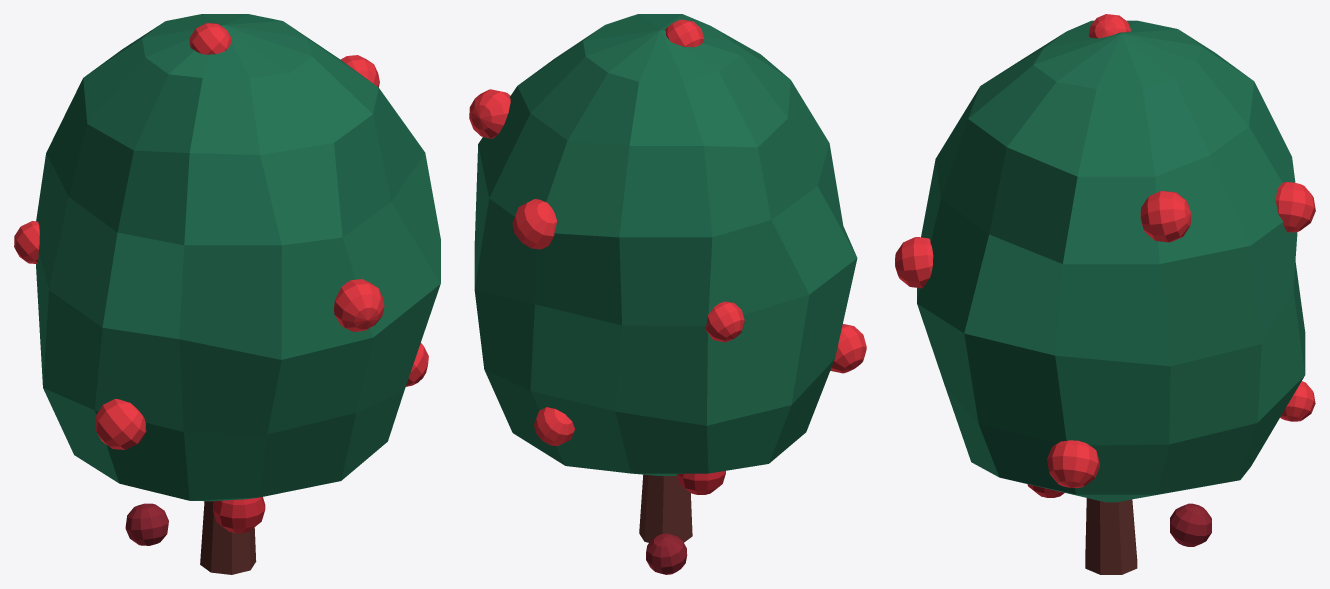
3 renders of one model, left to right at view 1: azimuth 30°, elevation 25°; view 2: azimuth 150°, elevation 25°; view 3: azimuth 270°, elevation 25°, orthographic. The views are drawn at different scales.
Visible parts, largest first — view 1: sphere (×8), cone; view 2: sphere (×9), cone; view 3: sphere (×8), cone.
Part boxes in pixels (<box>): sphere (×8): <box>14,14,440,545</box>; cone: <box>200,501,256,574</box>; sphere (×9): <box>469,14,866,574</box>; cone: <box>639,474,692,542</box>; sphere (×8): <box>895,14,1315,546</box>; cone: <box>1085,498,1137,574</box>.
Size of the model in its own units: 1.46 by 2.15 by 1.52.
1 material, 1 textured.
